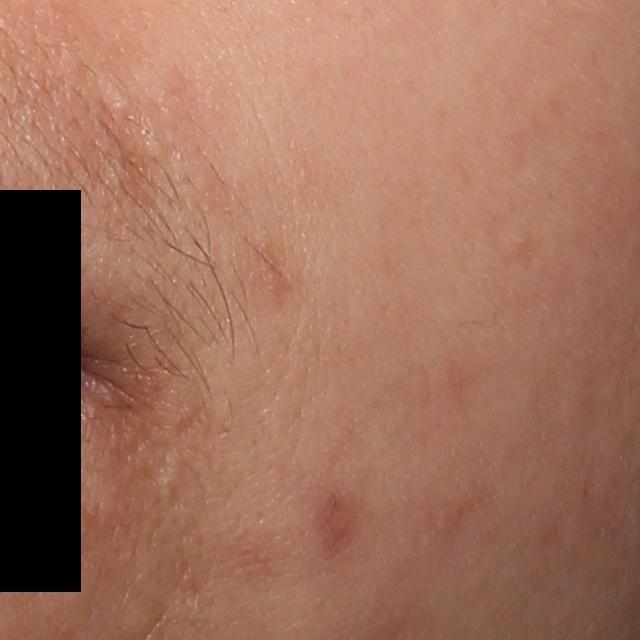hypertrophic_scar: (156, 448, 190, 508)
